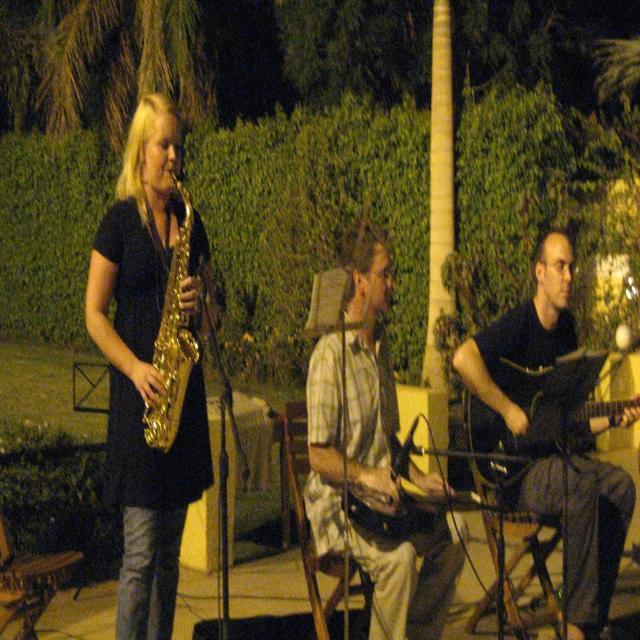guitar: (461, 352, 640, 484), (342, 484, 535, 548)
saxophone: (140, 168, 217, 452)
